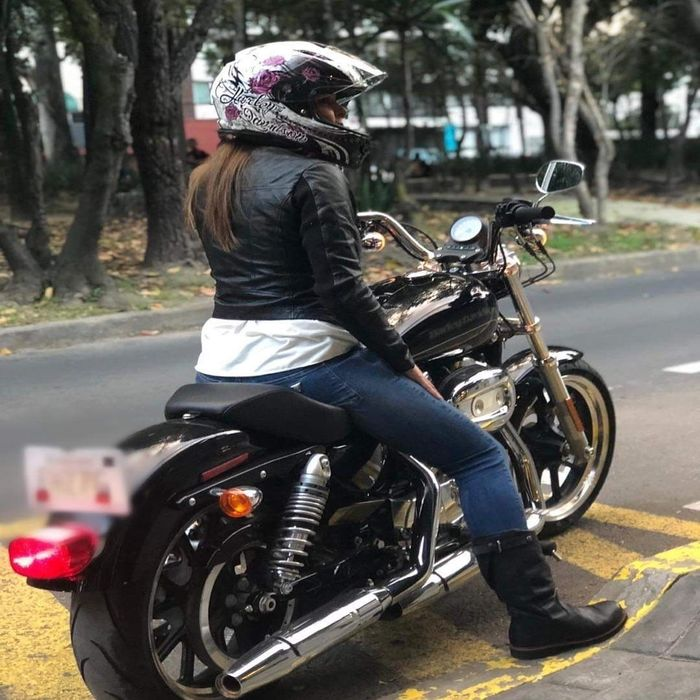h: (206, 37, 384, 161)
